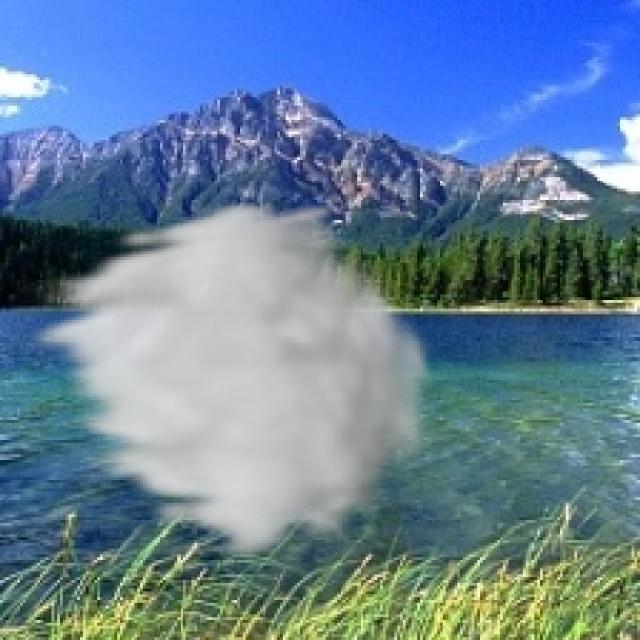smoke: (17, 197, 440, 563)
